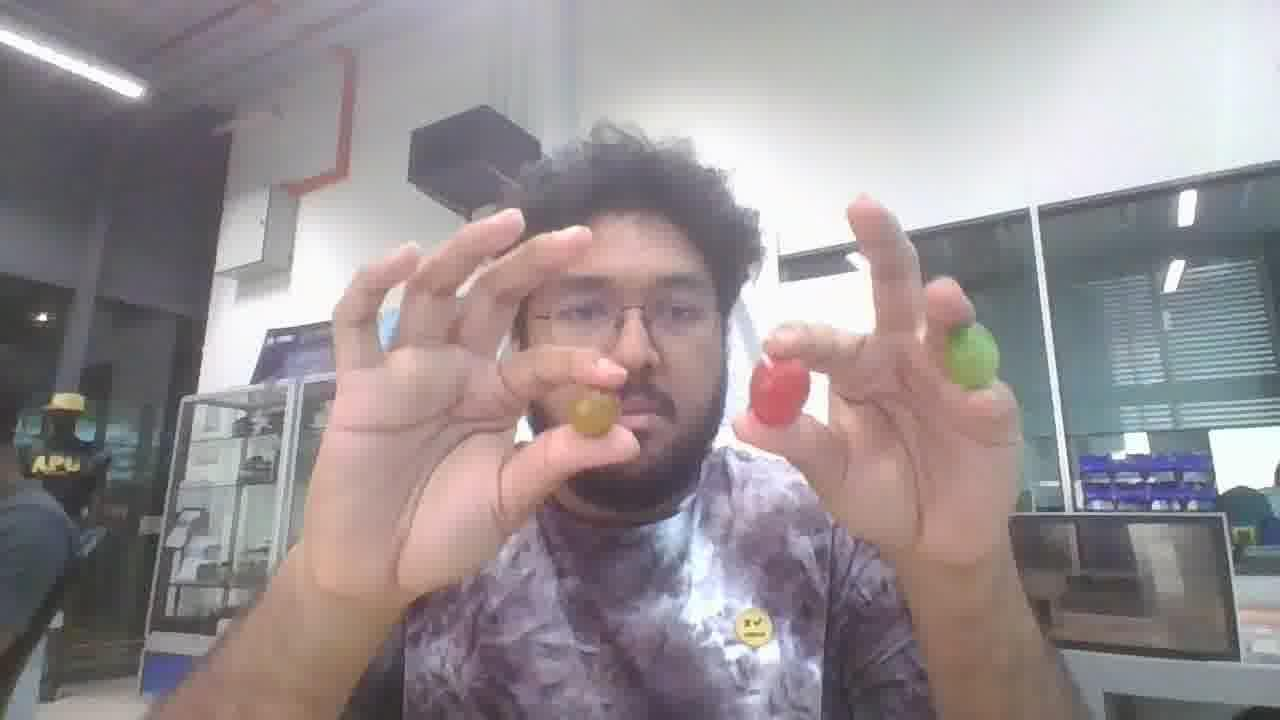green_cherry_tomato: (945, 323, 999, 389)
red_cherry_tomato: (750, 356, 809, 426)
yellow_cherry_tomato: (570, 390, 618, 436)
